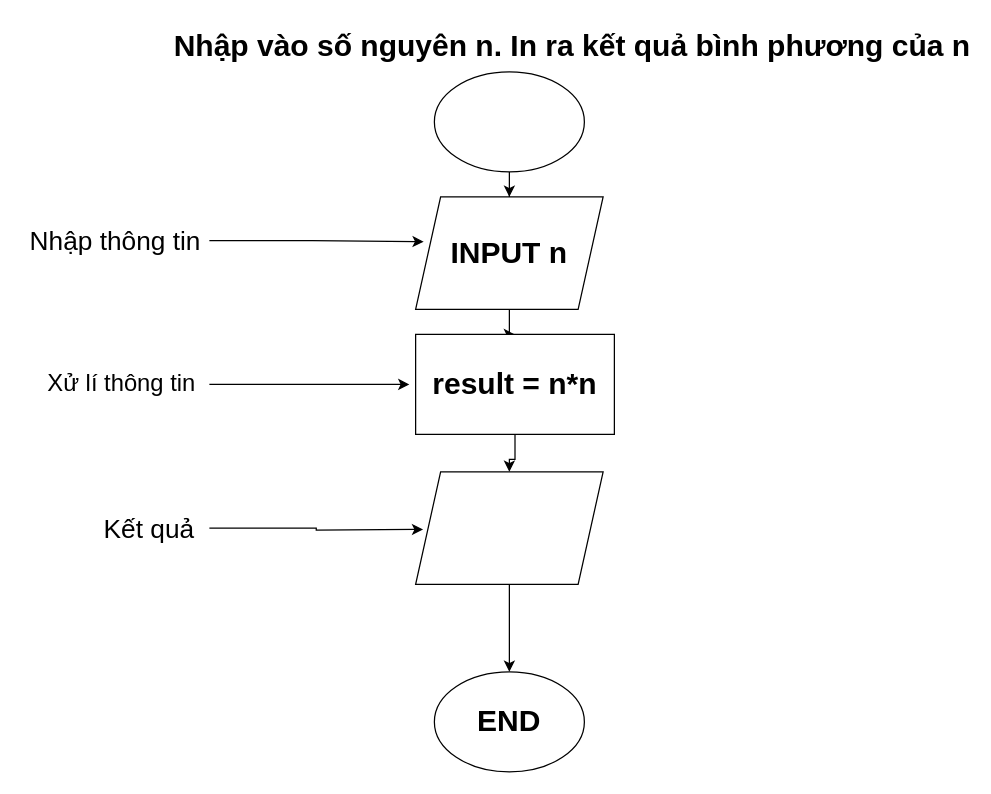
This 991x794 diagram has some shape labels left out. The box of each missing label's shape, as (x1, y1, x2, y2) in pixels:
OUTPUT result: (414, 471, 603, 584)
START: (433, 71, 584, 172)
